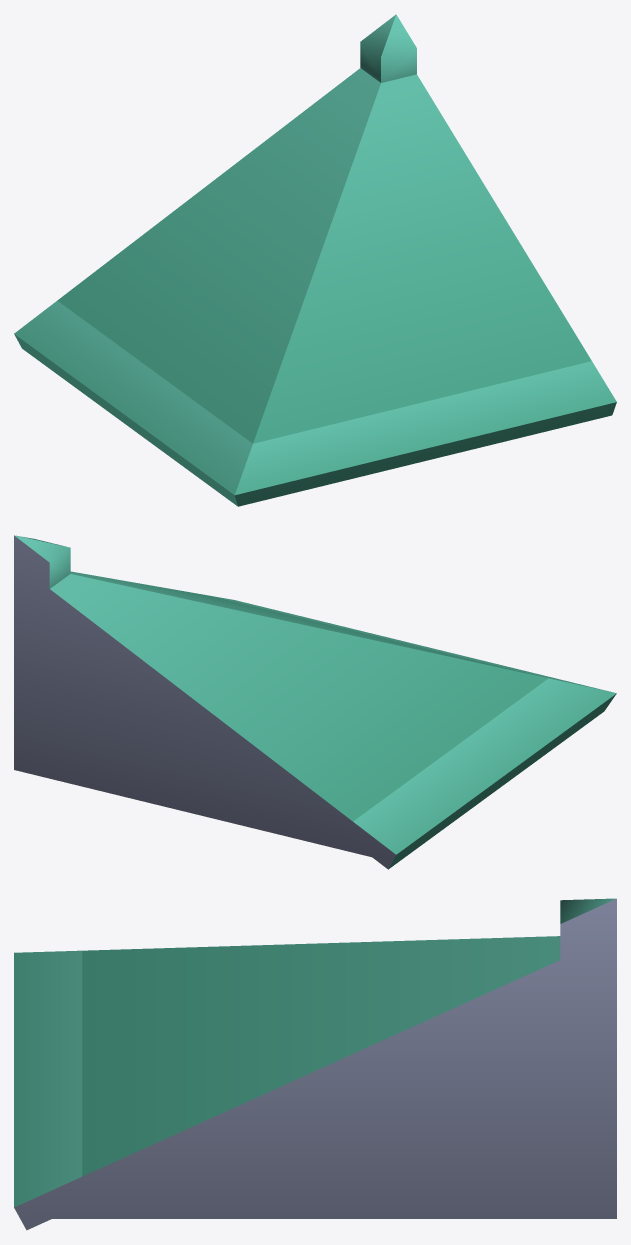
The model's file is roof-corner.glb.
3 renders of one model, top to bottom at view 1: azimuth 30°, elevation 25°; view 2: azimuth 150°, elevation 25°; view 3: azimuth 270°, elevation 25°, orthographic. The views are drawn at different scales.
Parts seen in each view (by area): view 1: roof-corner; view 2: roof-corner; view 3: roof-corner.
Part boxes in pixels (x1,y1,x2,y2): roof-corner: [14, 14, 616, 506]; roof-corner: [14, 535, 616, 869]; roof-corner: [14, 898, 616, 1230].
Bounding box in the file's own units: 1.07 × 0.6483 × 1.07.
1 material, 1 textured.
